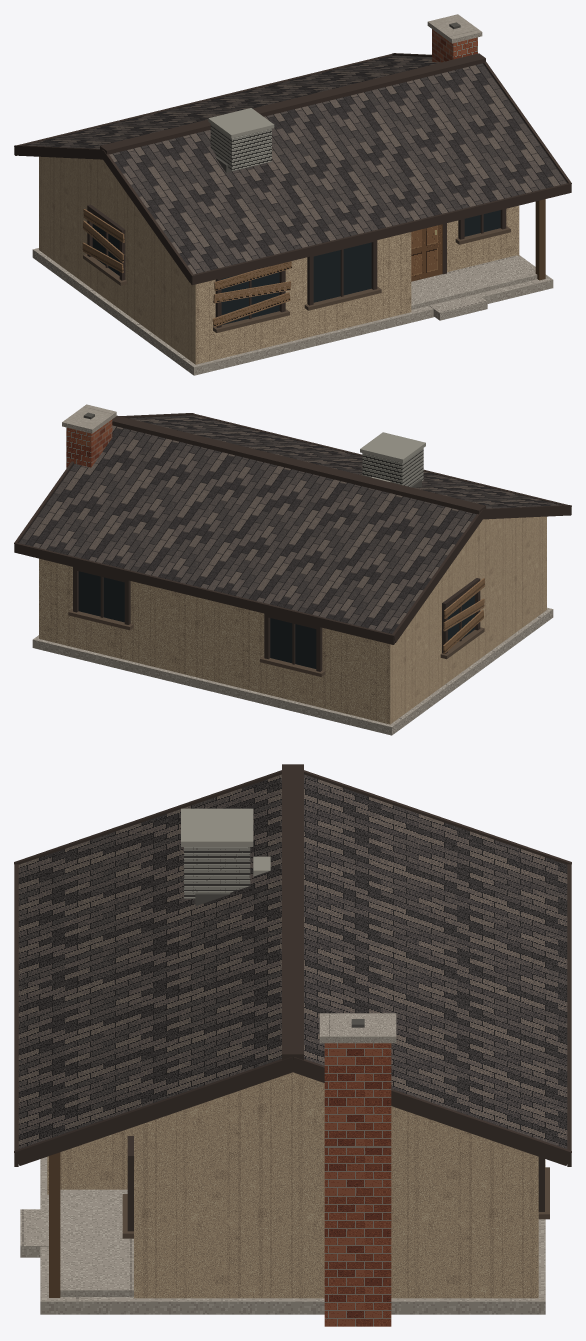
Rendered from sparks_tract_house.glb.
3 views of the same model, one above another, from view 1: azimuth 30°, elevation 25°; view 2: azimuth 150°, elevation 25°; view 3: azimuth 270°, elevation 25° (orthographic). The views are drawn at different scales.
Visible parts, largest first — view 1: sparks_tract_house; view 2: sparks_tract_house; view 3: sparks_tract_house.
Boxes of the visible parts, left/top/right/bottom form: sparks_tract_house: left=14, top=14, right=571, bottom=375; sparks_tract_house: left=14, top=404, right=571, bottom=735; sparks_tract_house: left=14, top=764, right=571, bottom=1326.
Bounding box in the file's own units: 9.72 × 4.51 × 7.72.
Materials: 13 (7 with a texture image).
